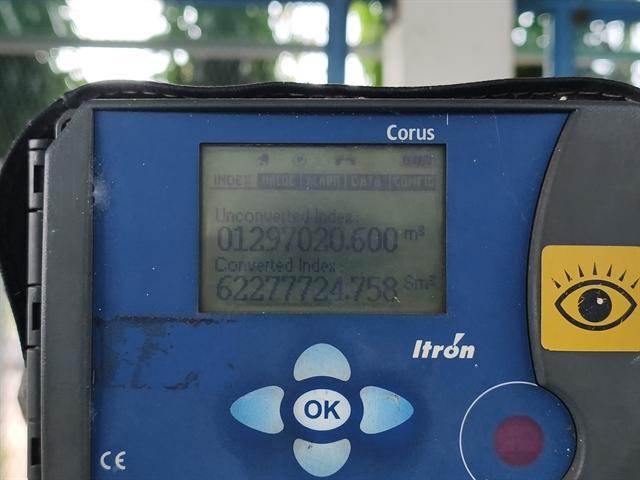digital_screen: (200, 142, 450, 314)
